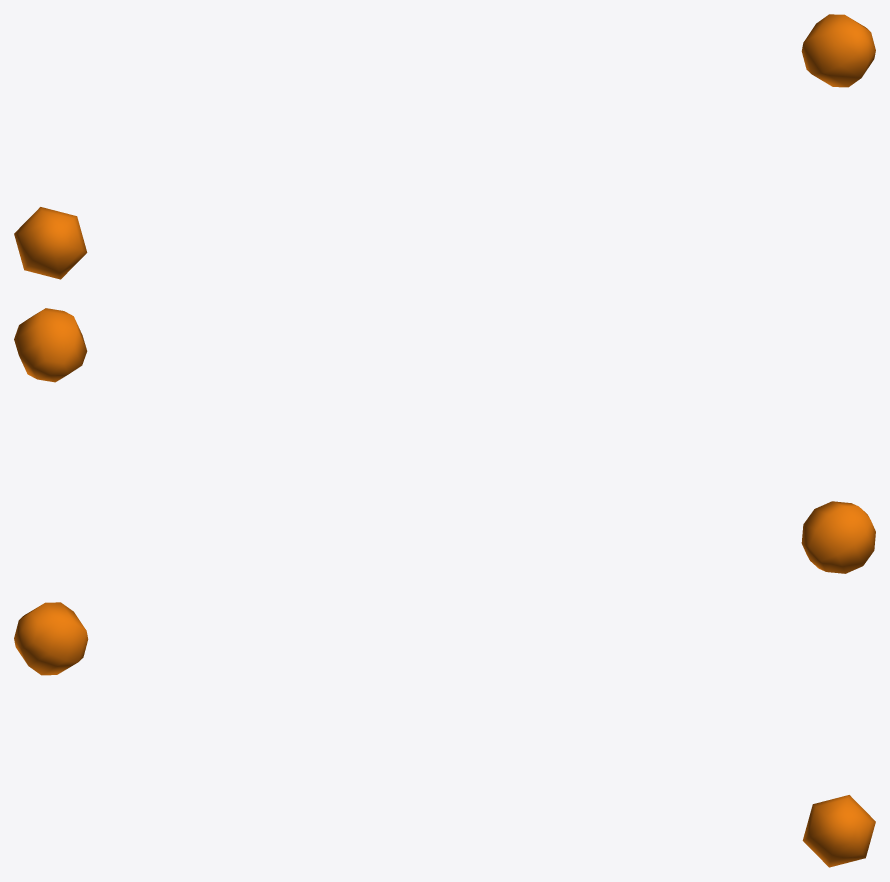
File: Earring_3.fbx
The picture shows the model from 3 angles, top to bottom: view 1: azimuth 30°, elevation 25°; view 2: azimuth 150°, elevation 25°; view 3: azimuth 330°, elevation 25°; orthographic projection.
Visible parts, largest first — view 1: Earring_3; view 2: Earring_3; view 3: Earring_3.
Part boxes in pixels (x1=…): Earring_3: x1=14, y1=14, x2=875, y2=279; Earring_3: x1=14, y1=308, x2=875, y2=573; Earring_3: x1=14, y1=602, x2=875, y2=867.
Size of the model in its own units: 55.2 by 4.16 by 4.08.
